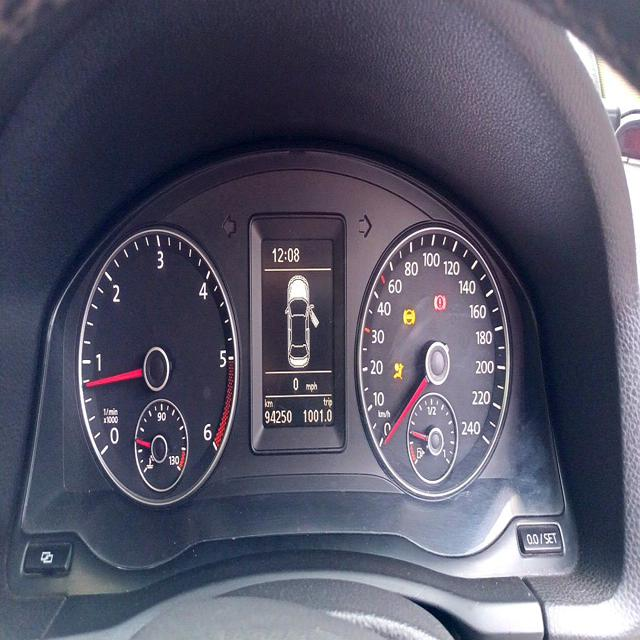odometer: (264, 408, 294, 425)
